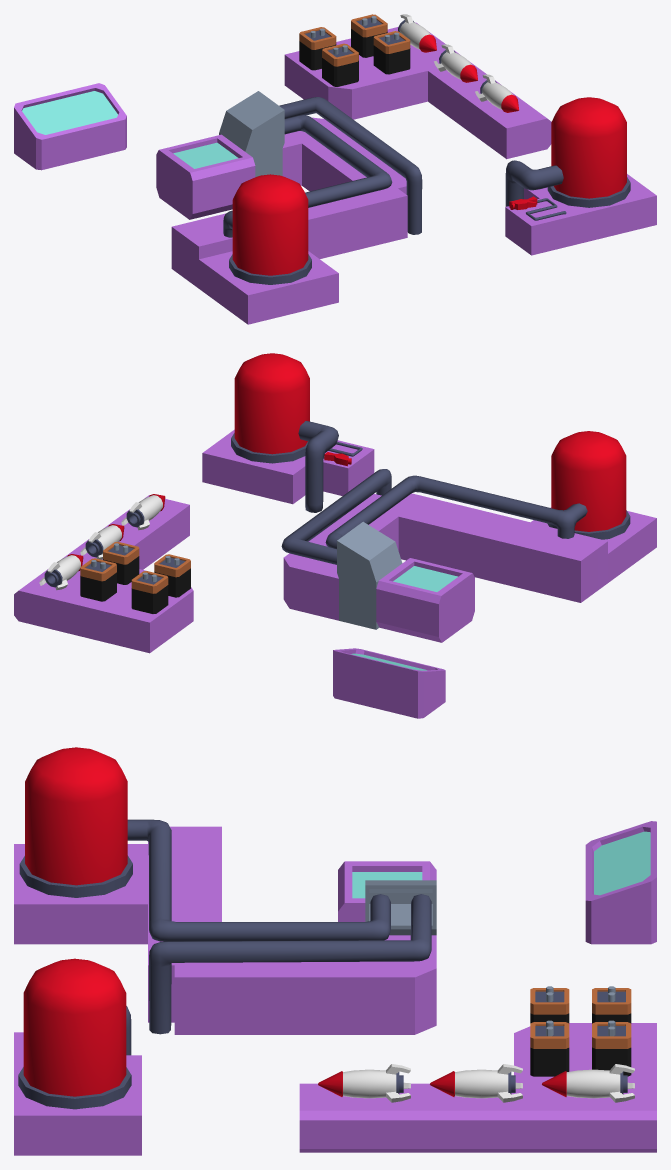
The model's file is Revised_Fuel_Store_Platform.fbx.
The picture shows the model from 3 angles, top to bottom: view 1: azimuth 30°, elevation 25°; view 2: azimuth 150°, elevation 25°; view 3: azimuth 270°, elevation 25°; orthographic projection. The views are drawn at different scales.
Visible parts, largest first — view 1: Cube.112, Cylinder.047, Cylinder.045, Cube.116, Cube.105, Cube.012, Cube.115, Cube.106, Cube.107, Cube.108, Cube.109, Cube.111 (+3 smaller); view 2: Cube.112, Cylinder.045, Cylinder.047, Cube.115, Cube.116, Cube.012, Cube.107, Cube.105, Cube.108, Cube.109, Cube.110, Cube.111 (+3 smaller); view 3: Cube.112, Cube.105, Cylinder.045, Cylinder.047, Cube.111, Cube.106, Cube.116, Cube.110, Cube.012, Cylinder.046, Cube.108, Cube.107 (+2 smaller).
Boxes of the visible parts, x1=… form: Cube.112: x1=171, y1=117, x2=407, y2=288; Cylinder.047: x1=229, y1=174, x2=311, y2=284; Cylinder.045: x1=547, y1=97, x2=630, y2=207; Cube.116: x1=14, y1=83, x2=126, y2=170; Cube.105: x1=387, y1=22, x2=551, y2=159; Cube.012: x1=505, y1=174, x2=656, y2=255; Cube.115: x1=156, y1=134, x2=255, y2=219; Cube.106: x1=199, y1=251, x2=338, y2=324; Cube.107: x1=284, y1=38, x2=427, y2=119; Cube.108: x1=299, y1=14, x2=410, y2=86; Cube.109: x1=219, y1=91, x2=284, y2=177; Cube.111: x1=279, y1=97, x2=422, y2=234; Cube.112: x1=283, y1=493, x2=607, y2=620; Cylinder.045: x1=231, y1=353, x2=309, y2=463; Cylinder.047: x1=547, y1=431, x2=630, y2=539; Cube.115: x1=376, y1=558, x2=474, y2=642; Cube.116: x1=333, y1=648, x2=445, y2=718; Cube.012: x1=202, y1=429, x2=374, y2=504; Cube.107: x1=59, y1=569, x2=193, y2=653; Cube.105: x1=14, y1=495, x2=189, y2=630; Cube.108: x1=80, y1=542, x2=190, y2=613; Cube.109: x1=337, y1=521, x2=402, y2=629; Cube.110: x1=325, y1=475, x2=587, y2=548; Cube.111: x1=281, y1=469, x2=391, y2=564; Cube.112: x1=148, y1=826, x2=436, y2=1034; Cube.105: x1=299, y1=1083, x2=656, y2=1152; Cylinder.045: x1=18, y1=958, x2=131, y2=1109; Cylinder.047: x1=19, y1=747, x2=132, y2=897; Cube.111: x1=149, y1=894, x2=431, y2=1034; Cube.106: x1=14, y1=844, x2=147, y2=944; Cube.116: x1=585, y1=821, x2=656, y2=944; Cube.110: x1=127, y1=819, x2=390, y2=941; Cube.012: x1=14, y1=1032, x2=141, y2=1155; Cylinder.046: x1=318, y1=1064, x2=634, y2=1102; Cube.108: x1=530, y1=986, x2=631, y2=1076; Cube.107: x1=514, y1=1023, x2=656, y2=1083.
Size of the model in its own units: 900 by 263 by 900.
